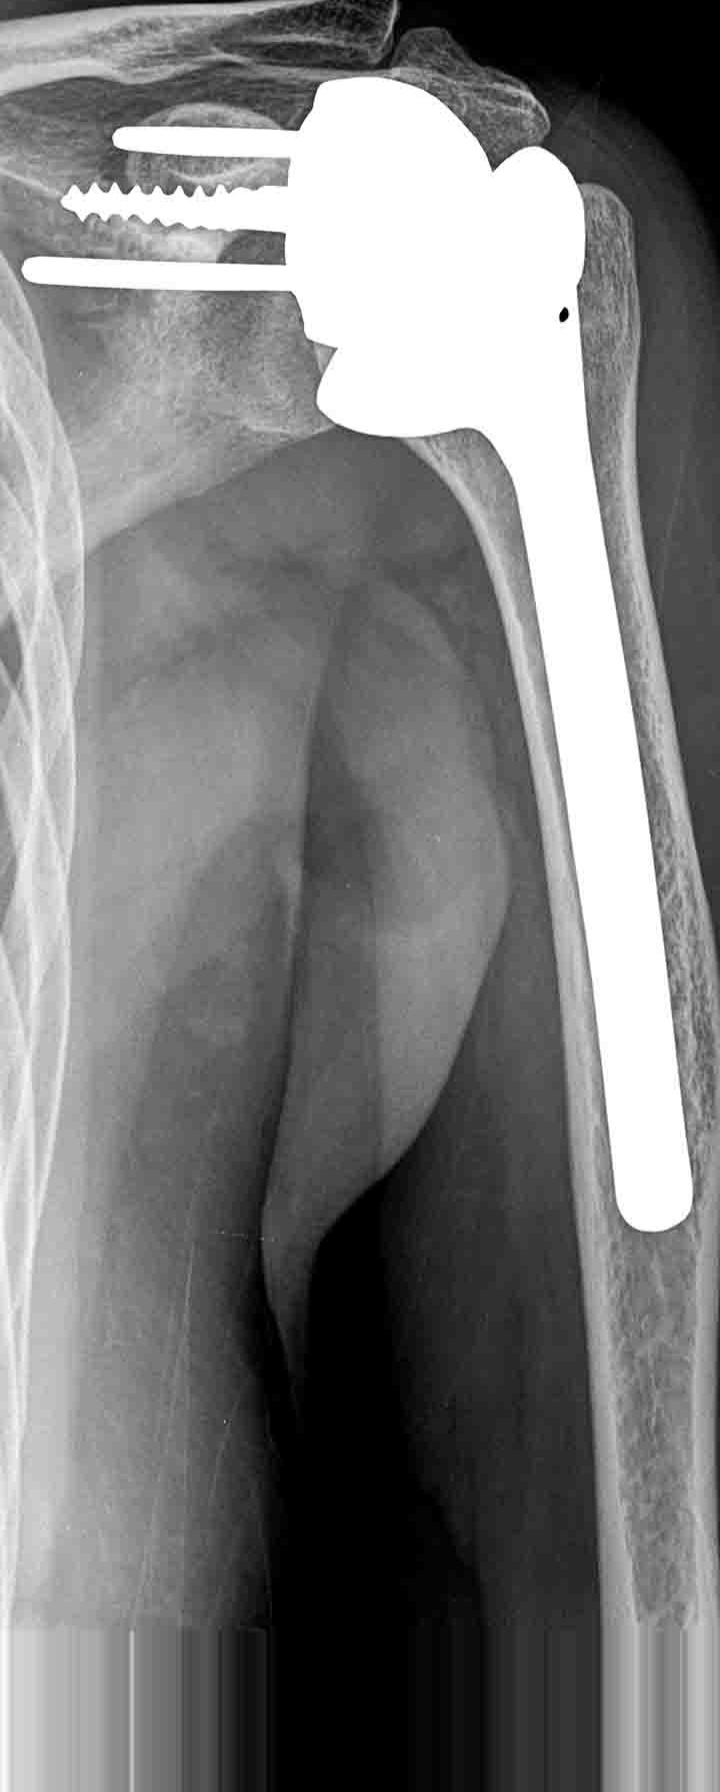Shoulder-Reverse-DJO: (23, 51, 698, 1246)
